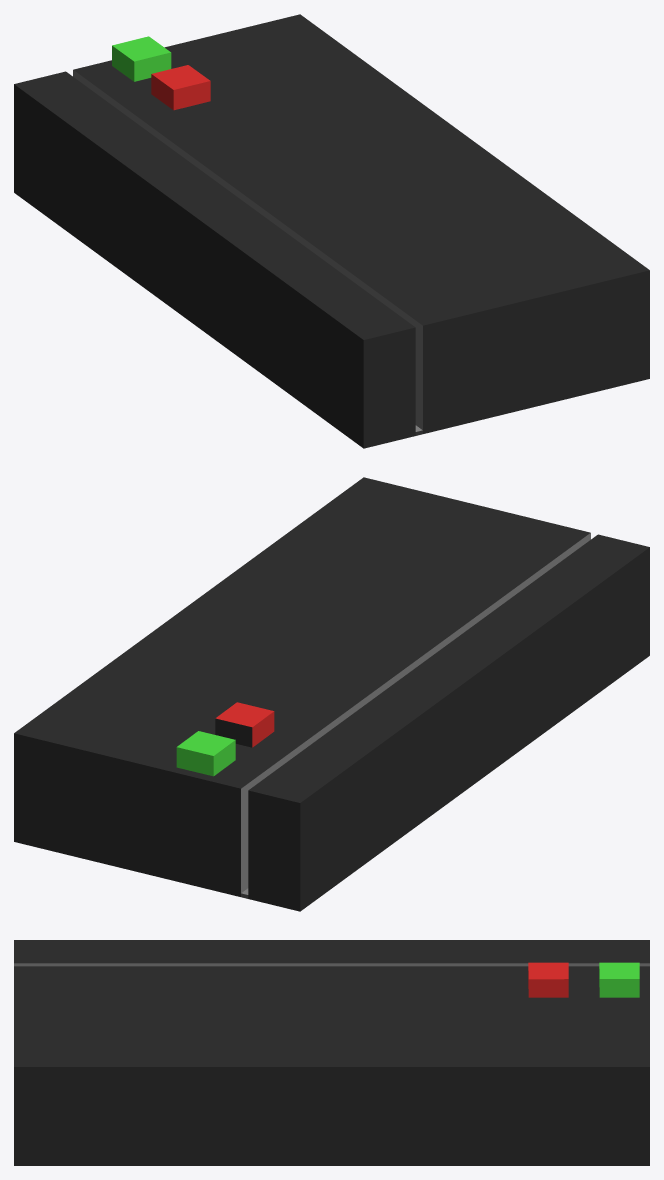
File: KeyCardReader.fbx
3 views of the same model, one above another, from view 1: azimuth 30°, elevation 25°; view 2: azimuth 150°, elevation 25°; view 3: azimuth 270°, elevation 25° (orthographic). The views are drawn at different scales.
Visible parts, largest first — view 1: Cube; view 2: Cube; view 3: Cube.
Part boxes in pixels (x1,y1,x2,y2): Cube: (14,14,649,448); Cube: (14,477,649,911); Cube: (14,940,649,1165).
Bounding box in the file's own units: 75.3 × 32.42 × 159.
